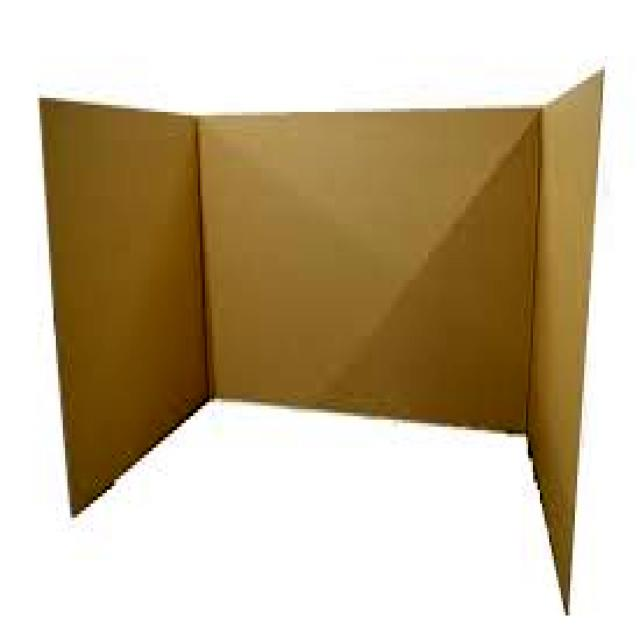Cardboard: (37, 68, 612, 429)
